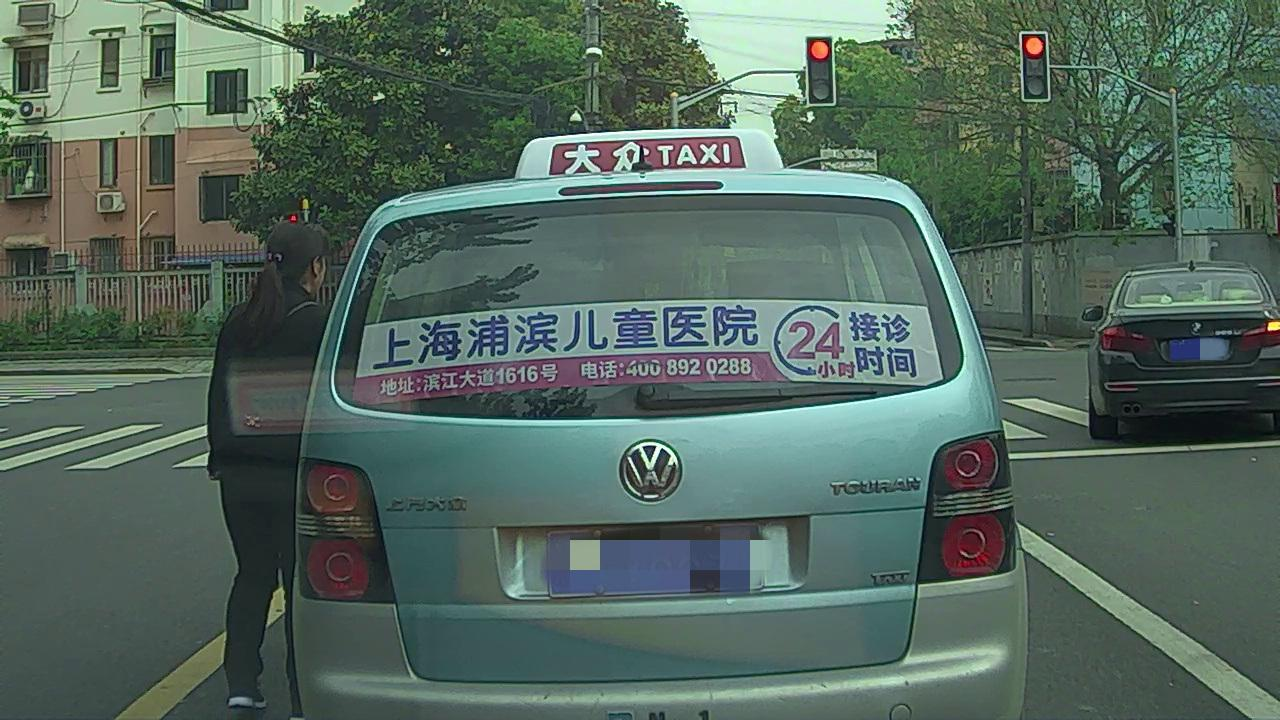traffic_light: (1023, 35, 1049, 101), (808, 39, 834, 103)
